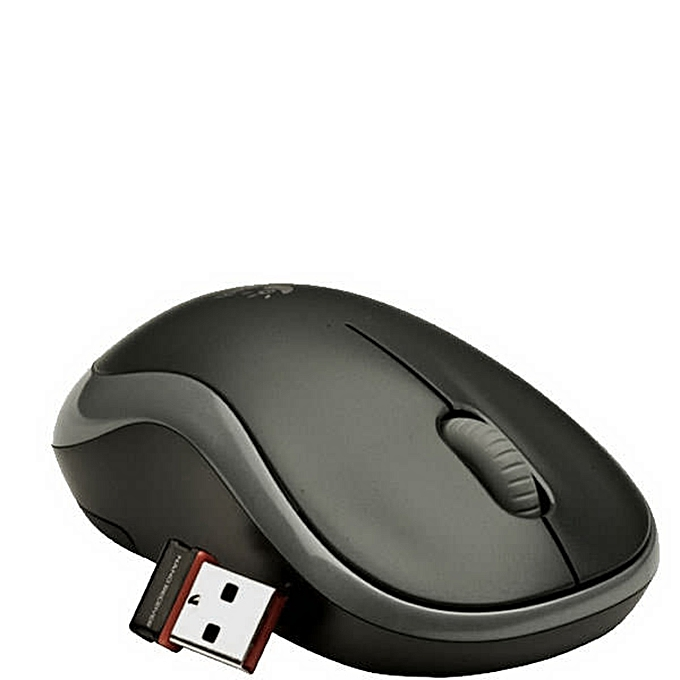logitech-mouse-m185: (47, 278, 661, 678)
